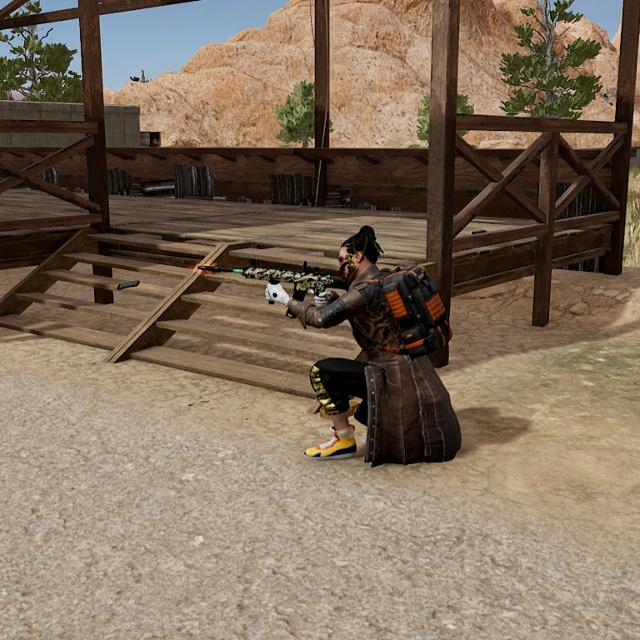head: (336, 234, 377, 282)
people: (299, 225, 433, 465)
